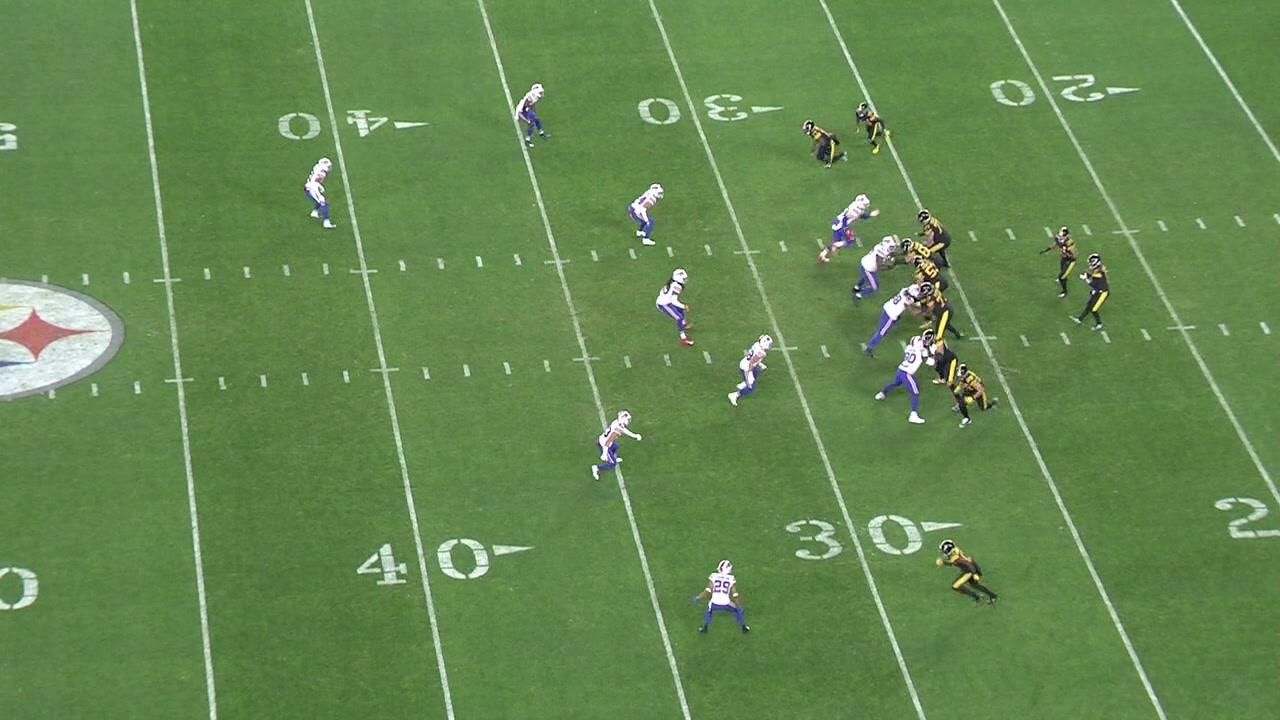defense: (699, 558, 758, 637), (875, 333, 925, 425), (865, 282, 923, 360), (589, 410, 641, 483), (821, 193, 874, 264), (726, 333, 775, 407), (658, 261, 698, 350), (851, 235, 898, 307), (515, 77, 553, 152), (304, 152, 339, 233), (631, 180, 667, 248)
oline: (914, 208, 951, 268), (921, 328, 956, 384), (921, 281, 956, 335), (912, 256, 949, 292), (900, 237, 938, 263)
qb: (1079, 248, 1111, 331)
skill: (934, 540, 999, 609), (949, 360, 1000, 426), (1048, 221, 1078, 299), (797, 120, 846, 167), (852, 98, 891, 152)
